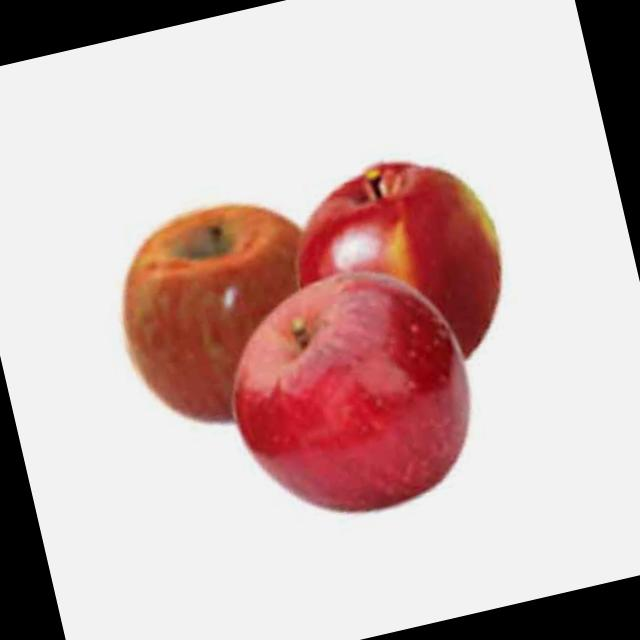apple: (204, 248, 496, 546), (98, 180, 361, 456), (270, 127, 528, 405)
